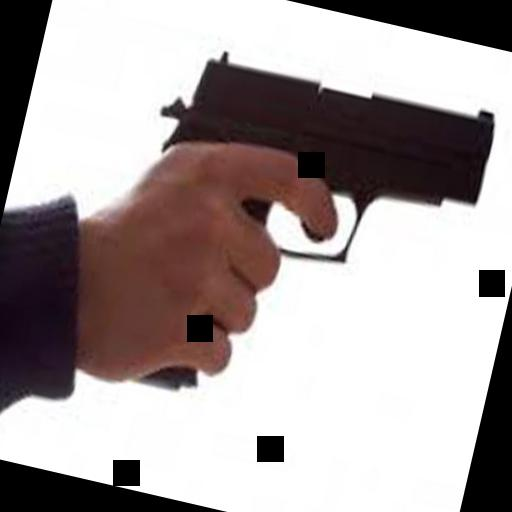Handgun: (100, 33, 504, 451)
